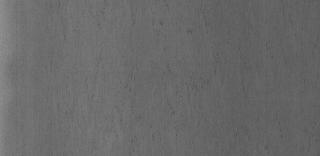silk spot: (69, 7, 273, 156)
